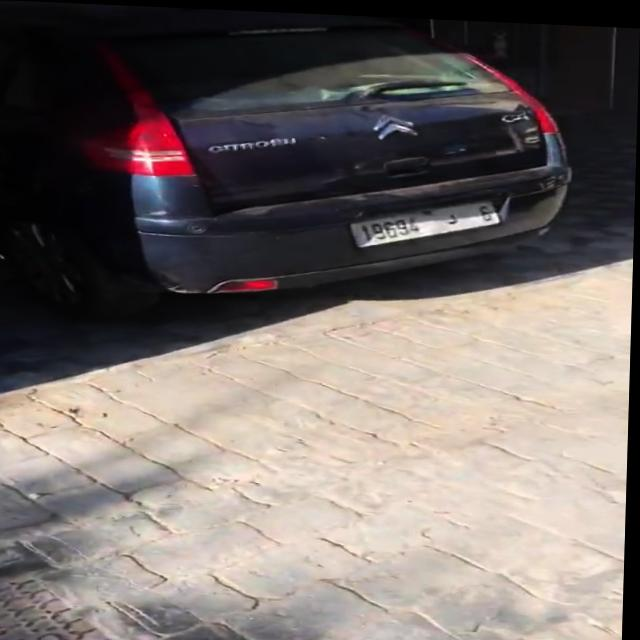License-Plate: (354, 198, 501, 244)
